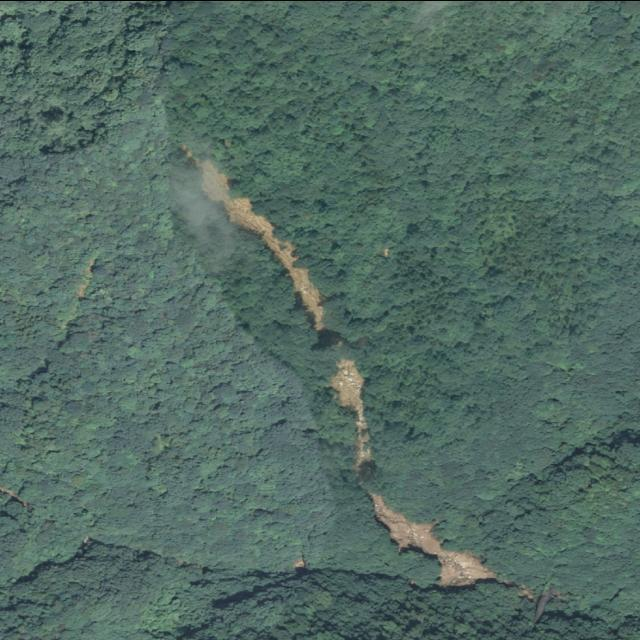landslide: (181, 144, 325, 330), (370, 492, 497, 586), (329, 359, 373, 477)
